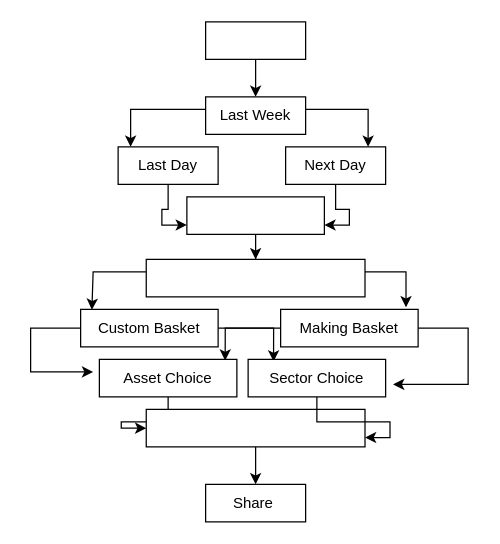
Some shapes in this 500 by 544 pixel diagram are drawn without their labels. The centre of each missing label's shape, as x and y in pixels:
"Asset Choice Confirmation" belongs at point 255,427.
"Basket Choice" belongs at point 255,215.
"Basket Choice Confirmation" belongs at point 255,277.
"Start" belongs at point 255,40.
